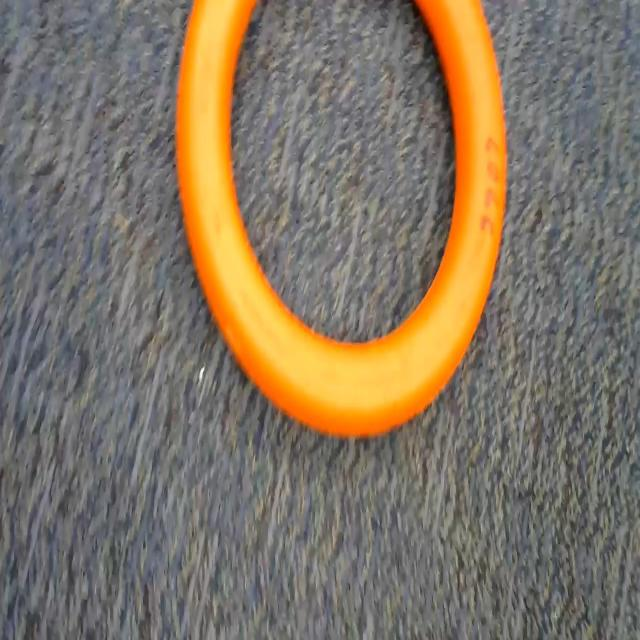note: (166, 0, 534, 453)
